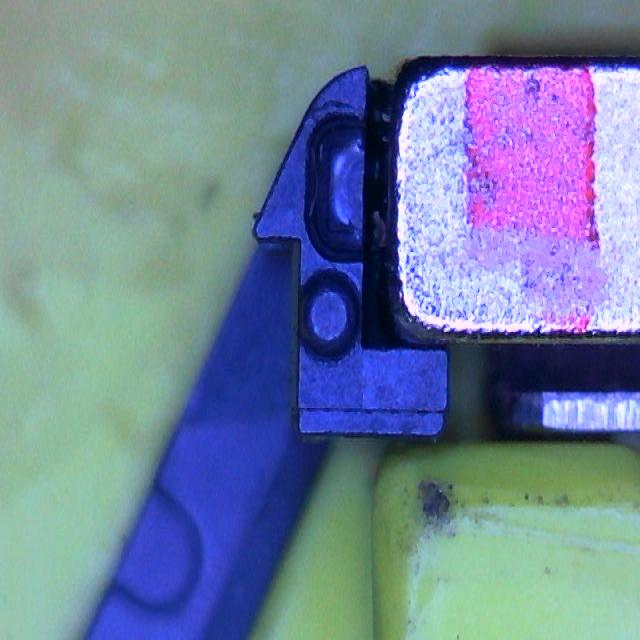lacking: (306, 115, 372, 265)
